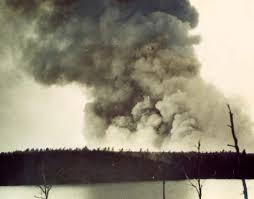yanwu: (1, 0, 254, 151)
